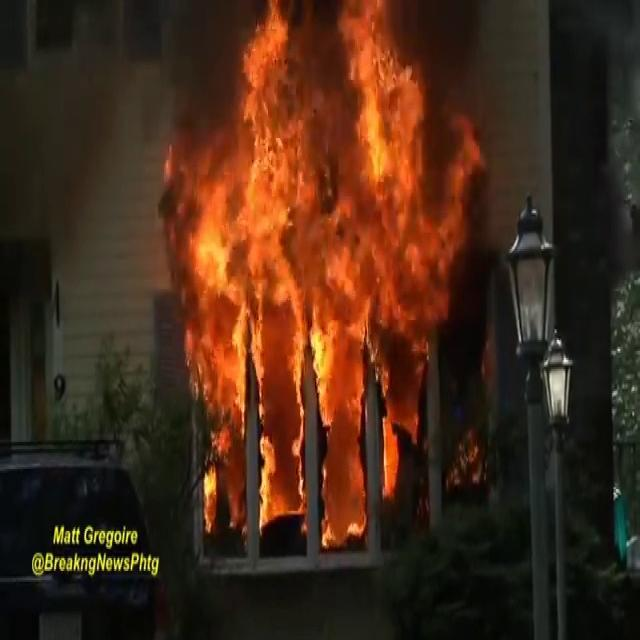Fire: (177, 2, 468, 546)
